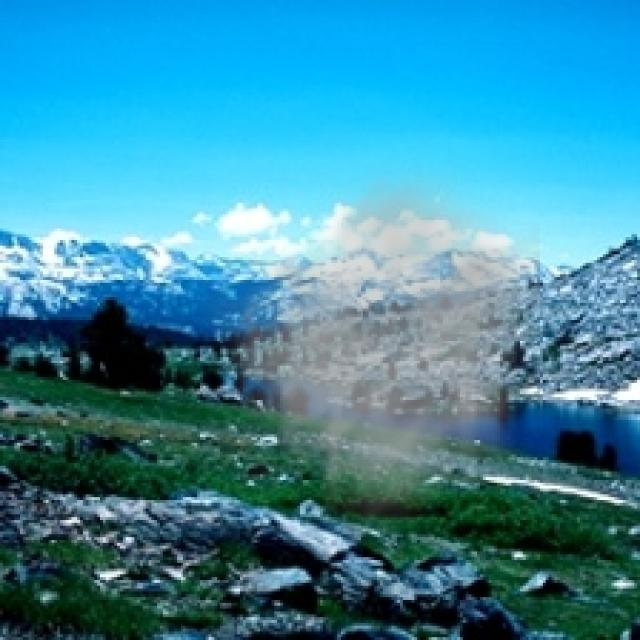smoke: (197, 157, 540, 540)
